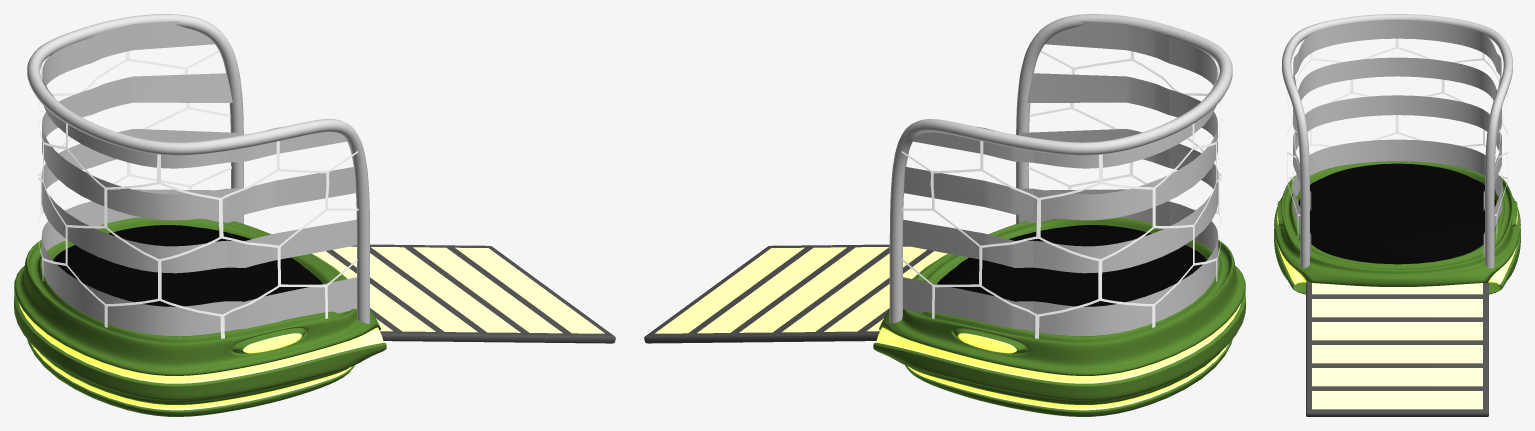
3 views of the same model, side by side, from view 1: azimuth 30°, elevation 25°; view 2: azimuth 150°, elevation 25°; view 3: azimuth 270°, elevation 25° (orthographic). The views are drawn at different scales.
Visible parts, largest first — view 1: Cube.006, Cube.003, Plane.003, Cube.002_Curve.001, Cube.005; view 2: Cube.006, Cube.003, Plane.003, Cube.002_Curve.001, Cube.005; view 3: Cube.003, Plane.003, Cube.006, Cube.002_Curve.001, Cube.005.
Boxes of the visible parts, x1,y1,x2,y2 form: Cube.006: [41, 20, 356, 336]; Cube.003: [14, 217, 386, 416]; Plane.003: [312, 244, 615, 343]; Cube.002_Curve.001: [27, 14, 369, 323]; Cube.005: [38, 50, 358, 338]; Cube.006: [903, 20, 1218, 336]; Cube.003: [873, 217, 1245, 416]; Plane.003: [644, 244, 947, 343]; Cube.002_Curve.001: [889, 14, 1232, 323]; Cube.005: [901, 50, 1221, 338]; Cube.003: [1274, 161, 1520, 294]; Plane.003: [1306, 282, 1488, 416]; Cube.006: [1293, 19, 1501, 257]; Cube.002_Curve.001: [1282, 14, 1512, 268]; Cube.005: [1287, 38, 1508, 238].
Bounding box in the file's own units: 3.79 × 2.22 × 2.18.
Materials: 6 (1 with a texture image).
